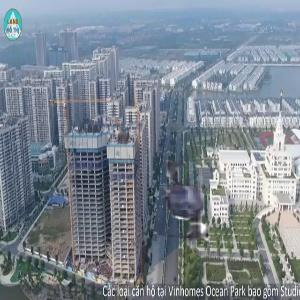drone: (131, 138, 258, 265)
